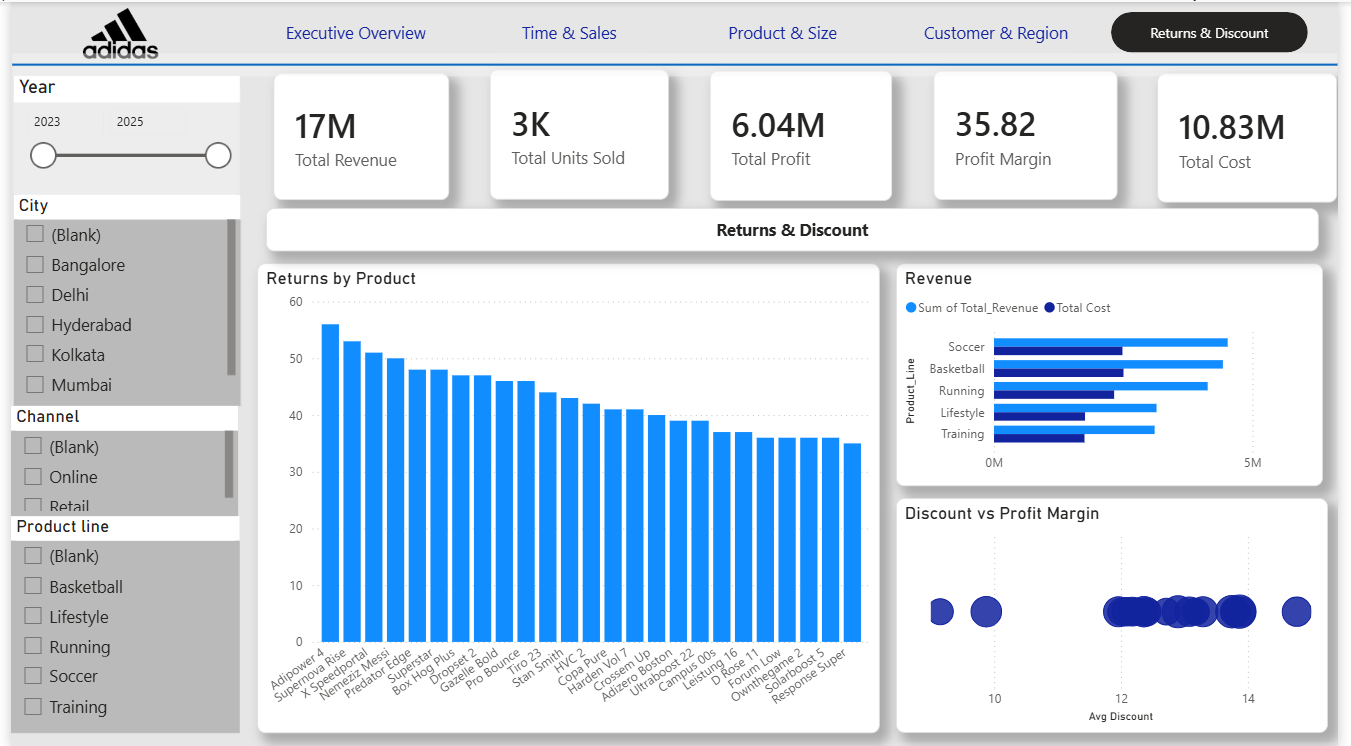

The dashboard page shown, as its layout file describes it:
{"tool":"powerbi","page":{"name":"Returns & Discount","canvas":[1280,720],"ordinal":4},"visuals":[{"type":"columnChart","title":"Returns by Product","fields":{"Category":["Sales_Data.Product_Name"],"Y":["CountNonNull(Sales_Data.Return_Reason)"]},"box":[237.2,251.9,600.4,453.7],"z":0},{"type":"clusteredBarChart","title":"Revenue","fields":{"Y":["Sum(Sales_Data.Total_Revenue)","_measures.Total Cost"],"Category":["Sales_Data.Product_Line"]},"box":[854.8,251.9,412.1,215.2],"z":1000},{"type":"scatterChart","title":"Discount vs Profit Margin","fields":{"X":["_measures.Avg Discount"],"Category":["Sales_Data.Product_Name"],"Size":["_measures.Total Revenue"]},"box":[854.8,479.4,417,226],"z":2000},{"type":"cardVisual","fields":{"Data":["_measures.Total Revenue"]},"box":[253.1,68.5,170,122.3],"z":3000},{"type":"cardVisual","fields":{"Data":["_measures.Total Cost"]},"box":[1106.4,68.5,173.6,124.7],"z":4000},{"type":"cardVisual","fields":{"Data":["_measures.Total Units Sold"]},"box":[462.5,64.8,172.4,126],"z":5000},{"type":"cardVisual","fields":{"Data":["_measures.Profit Margin %"]},"box":[889.9,66,177.3,124.7],"z":6000},{"type":"cardVisual","fields":{"Data":["_measures.Total Profit"]},"box":[674.4,66,176.1,126],"z":7000},{"type":"image","box":[45.2,4.9,119.8,50.1],"z":8000},{"type":"pageNavigator","box":[237.2,9.8,1016.2,39.1],"z":9000},{"type":"textbox","box":[245.8,199.3,1016.2,41.6],"z":10000},{"type":"shape","box":[1.2,48.9,1279.1,22],"z":11000},{"type":"slicer","title":"Year","fields":{"Values":["Sales_Data.Year"]},"box":[2.4,71.2,218.4,119.4],"z":12000},{"type":"slicer","title":"City","fields":{"Values":["Sales_Data.City"]},"box":[2.4,185.8,219.6,203.9],"z":13000},{"type":"slicer","title":"Product line","fields":{"Values":["Sales_Data.Product_Line"]},"box":[0,495.8,220.8,209.9],"z":14000},{"type":"slicer","title":"Channel","fields":{"Values":["Sales_Data.Channel"]},"box":[0,389.7,219.6,106.2],"z":15000}]}

Visuals, with their boxes in screenshot pixels (x1, y1, x2, y2), scaled from the page's 1280x720 canvas onto the 1351x746 screenshot:
"Returns by Product" columnChart: region(250, 261, 884, 731)
"Revenue" clusteredBarChart: region(902, 261, 1337, 484)
"Discount vs Profit Margin" scatterChart: region(902, 497, 1342, 731)
cardVisual - _measures.Total Revenue: region(267, 71, 447, 198)
cardVisual - _measures.Total Cost: region(1168, 71, 1350, 200)
cardVisual - _measures.Total Units Sold: region(488, 67, 670, 198)
cardVisual - _measures.Profit Margin %: region(939, 68, 1126, 198)
cardVisual - _measures.Total Profit: region(712, 68, 898, 199)
image: region(48, 5, 174, 57)
pageNavigator: region(250, 10, 1323, 51)
textbox: region(259, 206, 1332, 250)
shape: region(1, 51, 1350, 73)
"Year" slicer: region(3, 74, 233, 197)
"City" slicer: region(3, 193, 234, 404)
"Product line" slicer: region(0, 514, 233, 731)
"Channel" slicer: region(0, 404, 232, 514)
